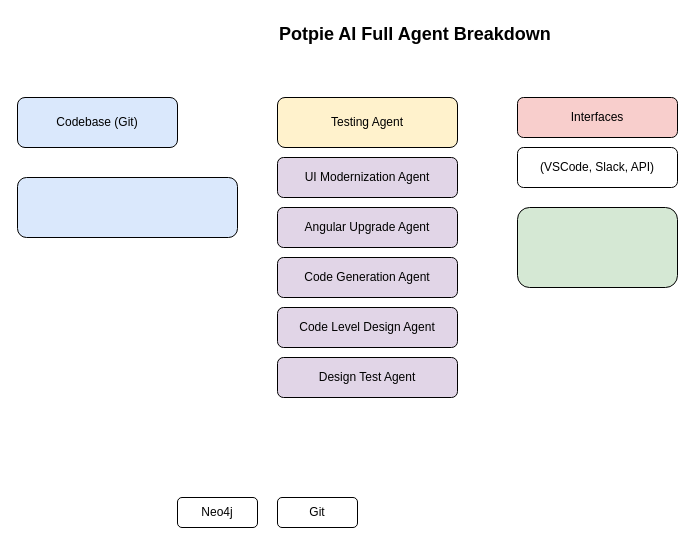
Image size: 695x545. Some labels were removed from this diagram. The box of each missing label's shape, as (x1, y1, x2, y2) in pixels:
Automated Tasks:\nTesting, Deployment, Debugging, UI Upgrade: (516, 206, 678, 288)
Knowledge Graph (Neo4j, Postgres): (16, 176, 238, 238)
